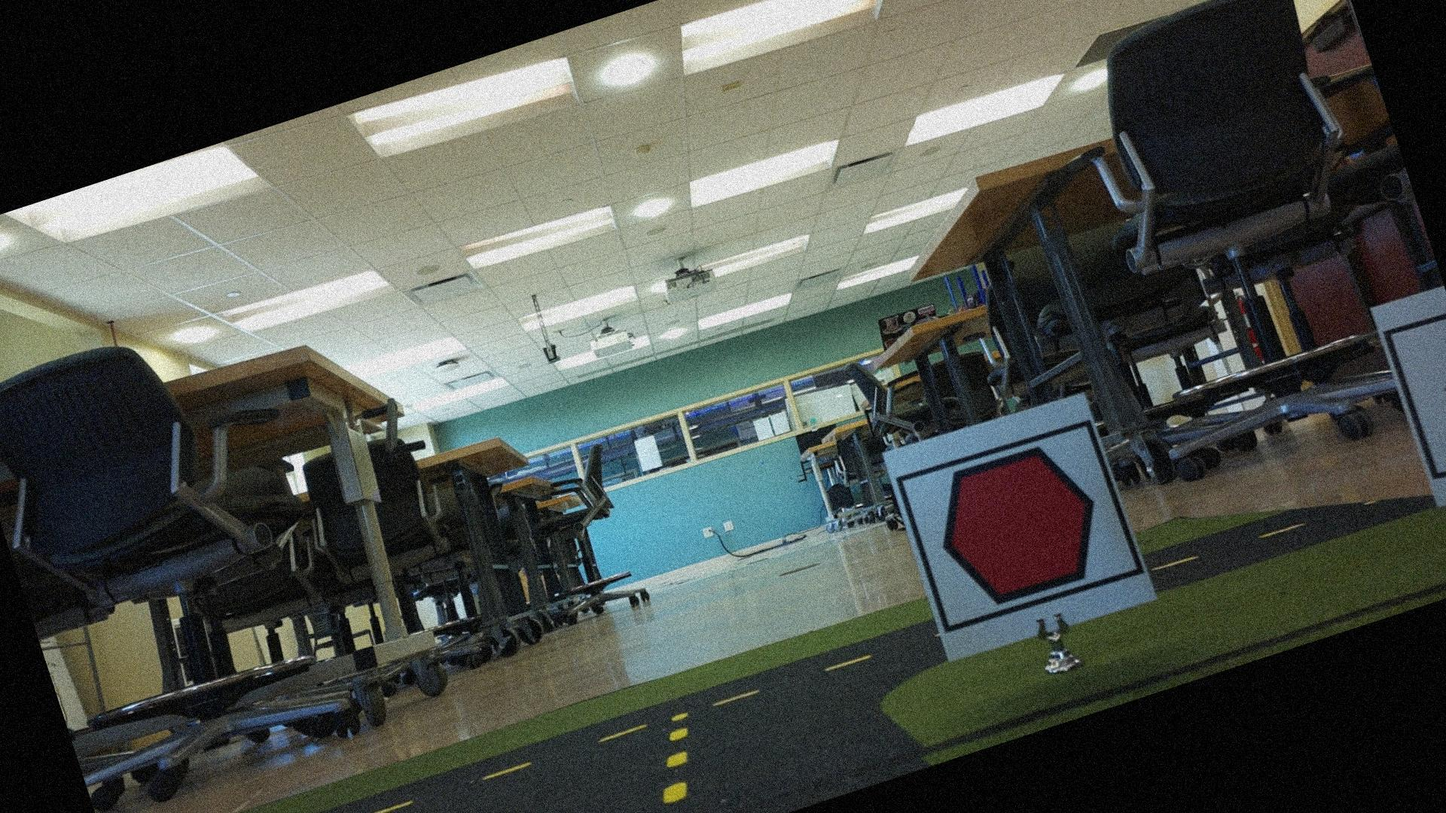stop: (906, 422, 1134, 630)
yellowline: (636, 708, 709, 807)
